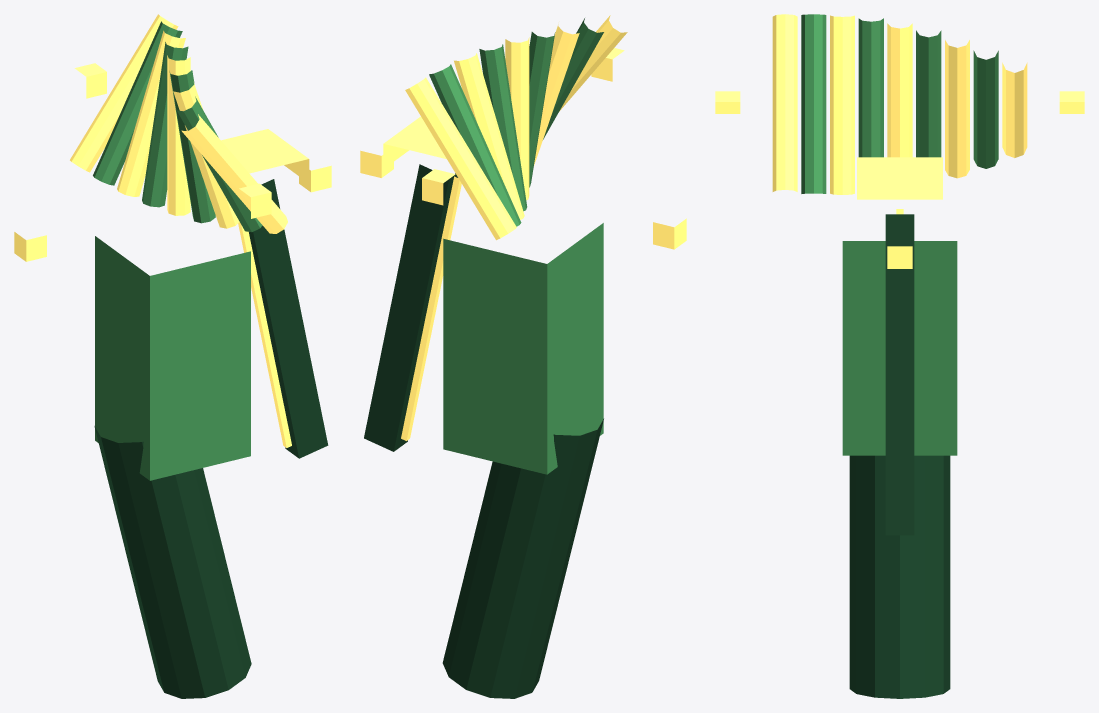
Rendered from medusa.glb.
3 views of the same model, side by side, from view 1: azimuth 30°, elevation 25°; view 2: azimuth 150°, elevation 25°; view 3: azimuth 270°, elevation 25° (orthographic). The views are drawn at different scales.
Visible parts, largest first — view 1: medusa-replacement-torso, medusa-replacement-serpent-tail, medusa-gorgon-bow, medusa-snake-0, medusa-snake-1, medusa-snake-2, medusa-snake-8, medusa-snake-3, medusa-stone-gaze, medusa-snake-4, medusa-snake-5, medusa-bow-string (+6 smaller); view 2: medusa-replacement-torso, medusa-replacement-serpent-tail, medusa-gorgon-bow, medusa-snake-0, medusa-snake-1, medusa-snake-2, medusa-snake-3, medusa-snake-4, medusa-bow-string, medusa-snake-5, medusa-snake-6, medusa-stone-gaze (+5 smaller); view 3: medusa-replacement-serpent-tail, medusa-replacement-torso, medusa-gorgon-bow, medusa-snake-7, medusa-snake-8, medusa-snake-6, medusa-stone-gaze, medusa-snake-5, medusa-snake-4, medusa-snake-2, medusa-snake-3, medusa-snake-1 (+4 smaller).
Part boxes in pixels (x1,y1,x2,y2): medusa-replacement-torso: (95,236,250,480); medusa-replacement-serpent-tail: (94,426,251,698); medusa-gorgon-bow: (249,179,328,458); medusa-snake-0: (70,14,178,172); medusa-snake-1: (93,21,182,185); medusa-snake-2: (117,30,185,196); medusa-snake-8: (181,114,287,233); medusa-snake-3: (142,42,188,207); medusa-stone-gaze: (221,129,309,183); medusa-snake-4: (167,55,190,215); medusa-snake-5: (169,70,215,223); medusa-bow-string: (238,222,291,447); medusa-replacement-torso: (443,223,603,474); medusa-replacement-serpent-tail: (442,419,603,698); medusa-gorgon-bow: (364,164,457,451); medusa-snake-0: (405,77,516,240); medusa-snake-1: (429,64,521,226); medusa-snake-2: (454,53,524,219); medusa-snake-3: (479,44,527,211); medusa-snake-4: (505,37,529,200); medusa-bow-string: (401,176,461,440); medusa-snake-5: (529,32,555,187); medusa-snake-6: (534,24,579,165); medusa-stone-gaze: (383,116,446,168); medusa-replacement-serpent-tail: (849,455,950,698); medusa-replacement-torso: (842,241,957,455); medusa-gorgon-bow: (885,214,914,535); medusa-snake-7: (801,14,826,193); medusa-snake-8: (772,14,797,191); medusa-snake-6: (830,15,854,194); medusa-stone-gaze: (857,157,942,199); medusa-snake-5: (858,18,883,157); medusa-snake-4: (887,23,912,157); medusa-snake-2: (945,40,969,178); medusa-snake-3: (916,30,941,157); medusa-snake-1: (973,50,998,168).
Bounding box in the file's own units: 1.03 × 2.04 × 1.03.
